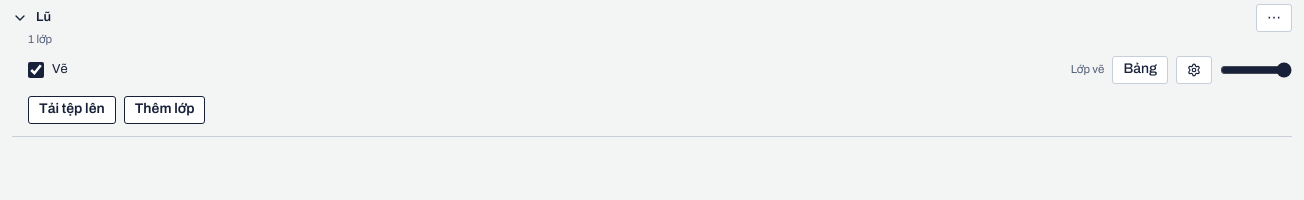
Test case: MapCardView export › the owner can export too
Click the button named "Thao tác khác": (1274, 18) [1256,4,1292,32]
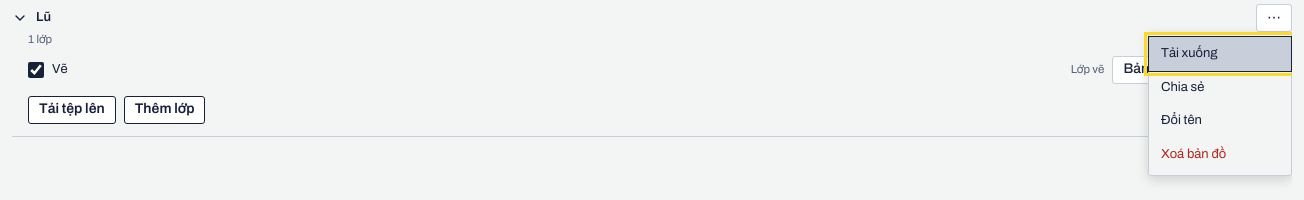
Check: the menu item "Tải xuống" is shown, box [1149,37,1291,70]
